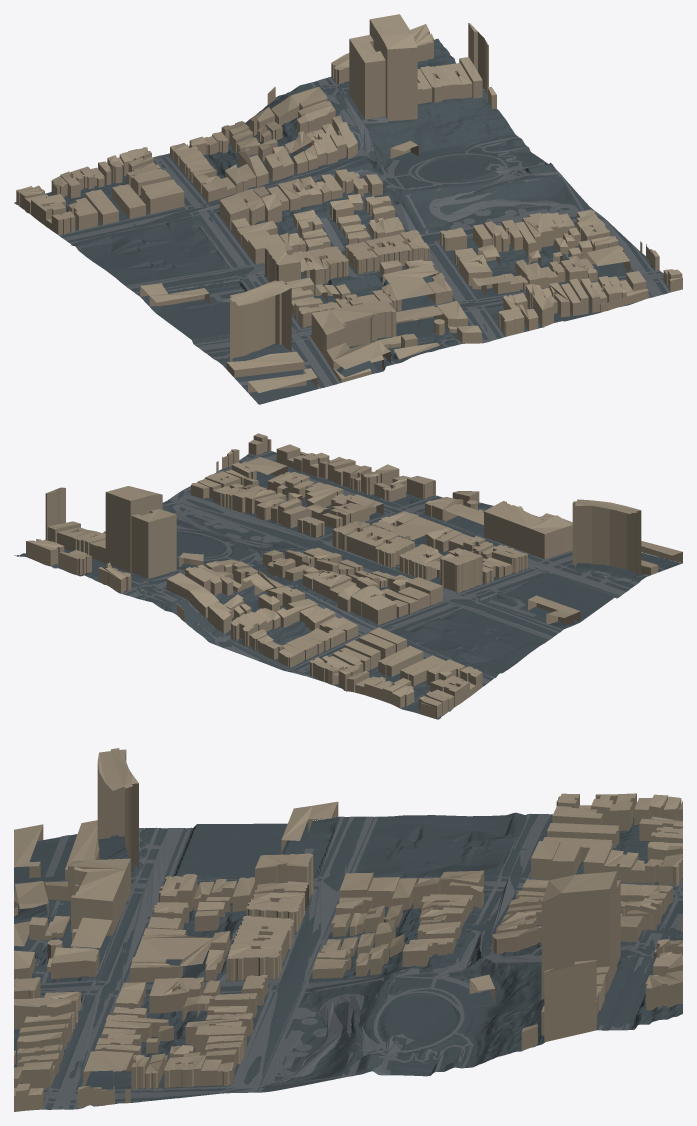
Rendered from epsg26910-1434-10896.lod0.glb.
3 views of the same model, one above another, from view 1: azimuth 30°, elevation 25°; view 2: azimuth 150°, elevation 25°; view 3: azimuth 270°, elevation 25° (orthographic). The views are drawn at different scales.
Visible parts, largest first — view 1: epsg26910-1434-10896-lod0; view 2: epsg26910-1434-10896-lod0; view 3: epsg26910-1434-10896-lod0.
Part boxes in pixels (left/top/right/bottom): epsg26910-1434-10896-lod0: left=14, top=14, right=682, bottom=404; epsg26910-1434-10896-lod0: left=14, top=433, right=682, bottom=719; epsg26910-1434-10896-lod0: left=14, top=748, right=682, bottom=1111.
Bounding box in the file's own units: 384 × 124 × 384.
